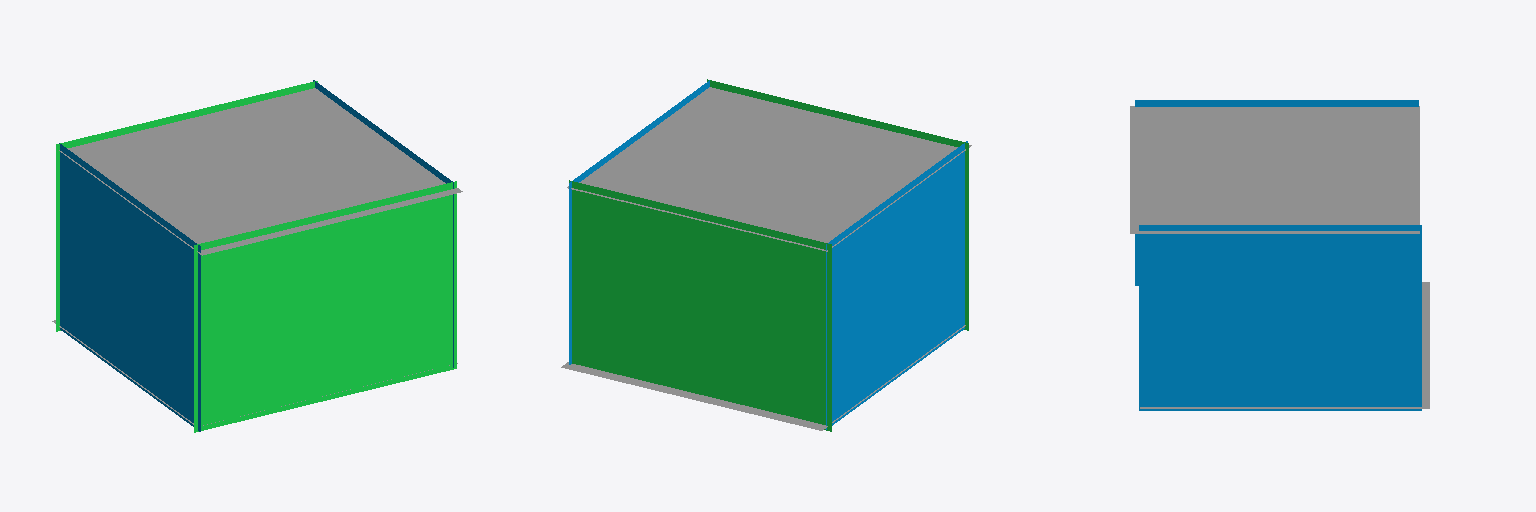
3 renders of one model, left to right at view 1: azimuth 30°, elevation 25°; view 2: azimuth 150°, elevation 25°; view 3: azimuth 270°, elevation 25°, orthographic.
Parts seen in each view (by area): view 1: PlaneBackRight.001_Plane.003, PlaneGround.001_Plane.005, PlaneBackLeft_Plane.002, PlaneBackRight_Plane.001, PlaneBackLeft.001_Plane.004; view 2: PlaneBackRight_Plane.001, PlaneGround.001_Plane.005, PlaneBackLeft_Plane.002, PlaneBackRight.001_Plane.003, PlaneGround_Plane, PlaneBackLeft.001_Plane.004; view 3: PlaneBackLeft.001_Plane.004, PlaneGround.001_Plane.005, PlaneBackLeft_Plane.002, PlaneGround_Plane.
Boxes of the visible parts, box(x1,y1,x2,y2) form: PlaneBackRight.001_Plane.003: box(194, 181, 456, 432); PlaneGround.001_Plane.005: box(59, 88, 462, 255); PlaneBackLeft_Plane.002: box(59, 143, 200, 431); PlaneBackRight_Plane.001: box(56, 81, 317, 331); PlaneBackLeft.001_Plane.004: box(313, 80, 453, 367); PlaneBackRight_Plane.001: box(569, 180, 831, 431); PlaneGround.001_Plane.005: box(567, 87, 971, 251); PlaneBackLeft_Plane.002: box(826, 141, 967, 429); PlaneBackRight.001_Plane.003: box(707, 79, 968, 330); PlaneGround_Plane: box(561, 325, 965, 430); PlaneBackLeft.001_Plane.004: box(569, 80, 709, 364); PlaneBackLeft.001_Plane.004: box(1139, 225, 1421, 410); PlaneGround.001_Plane.005: box(1130, 106, 1419, 233); PlaneBackLeft_Plane.002: box(1135, 100, 1418, 285); PlaneGround_Plane: box(1140, 282, 1429, 408).
Size of the model in its own units: 20.51 by 13.92 by 20.23.
Materials: 3 (2 with a texture image).